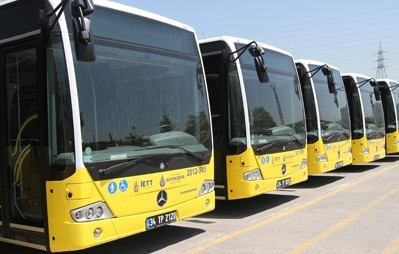bus: (1, 1, 216, 251), (198, 30, 314, 202), (295, 50, 356, 178), (343, 57, 386, 172), (376, 63, 399, 159)
